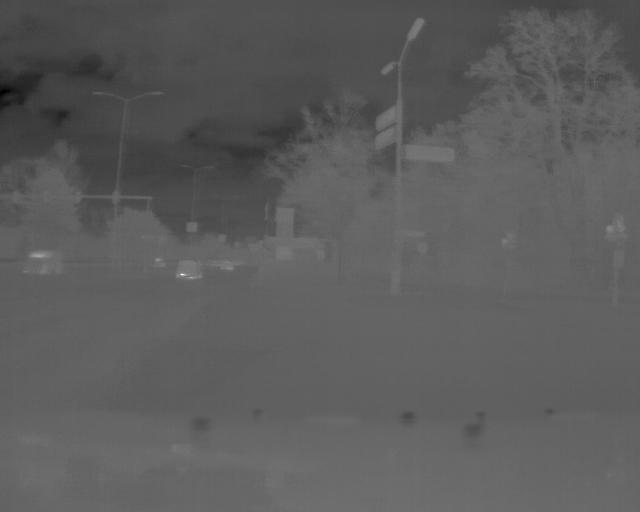car: (19, 248, 68, 279), (172, 258, 203, 282)
